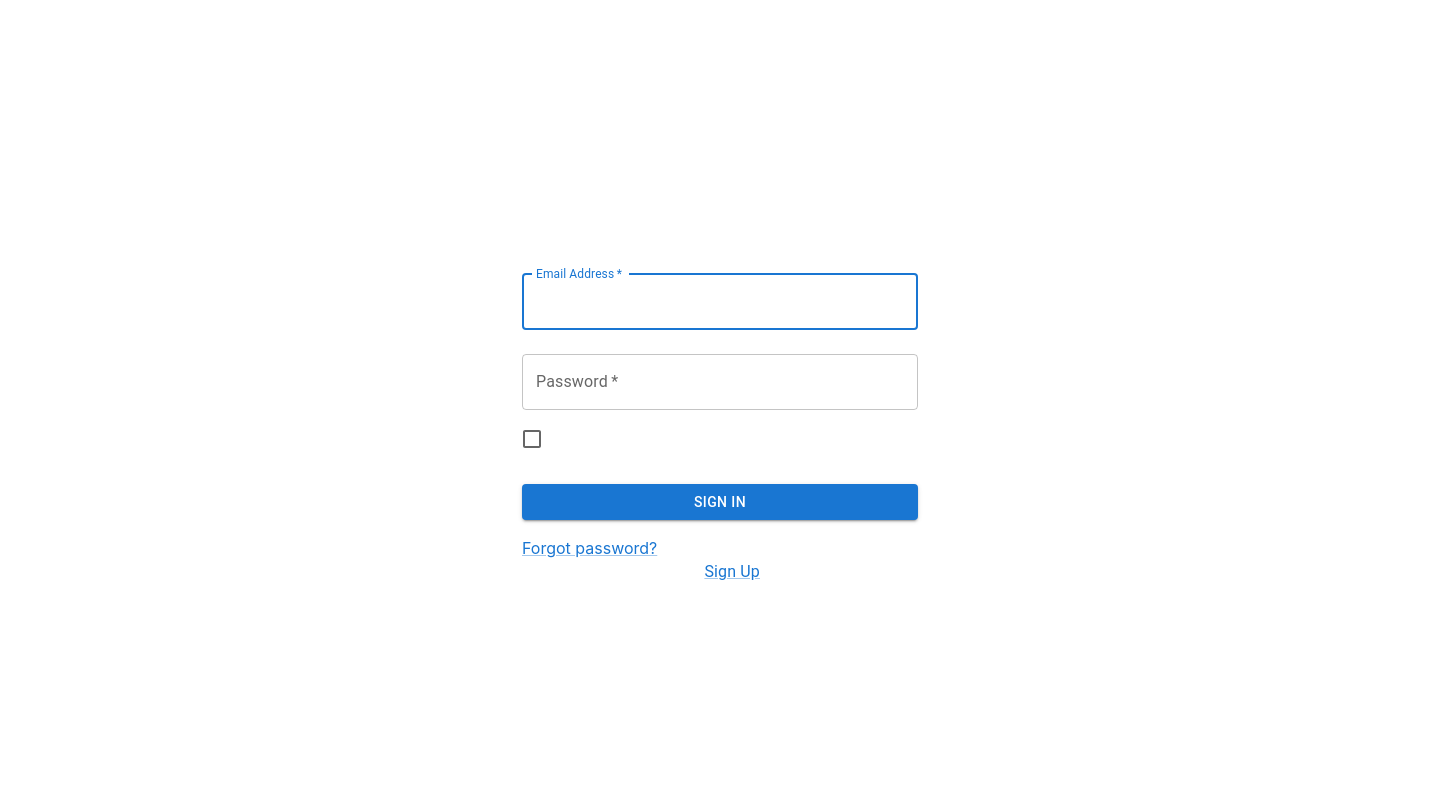
Test: App Component › renders Login component since there is no logged in user
Type "example@example.com" into the field labelled "Email Address *" at (720, 302), box [522,274,918,330]
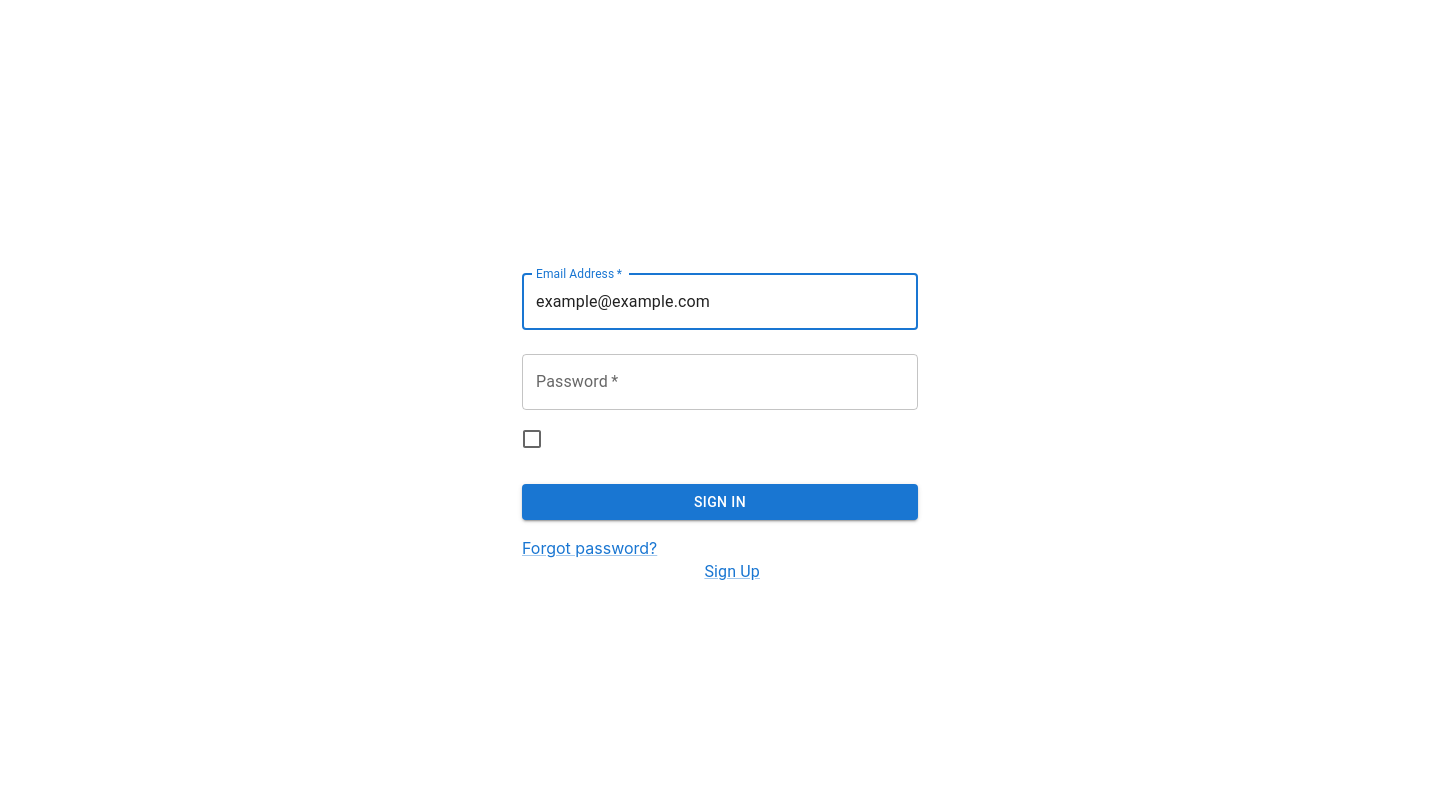
Type "TestPassword" into the password field labelled "Password *" at (720, 382), box [522,354,918,410]
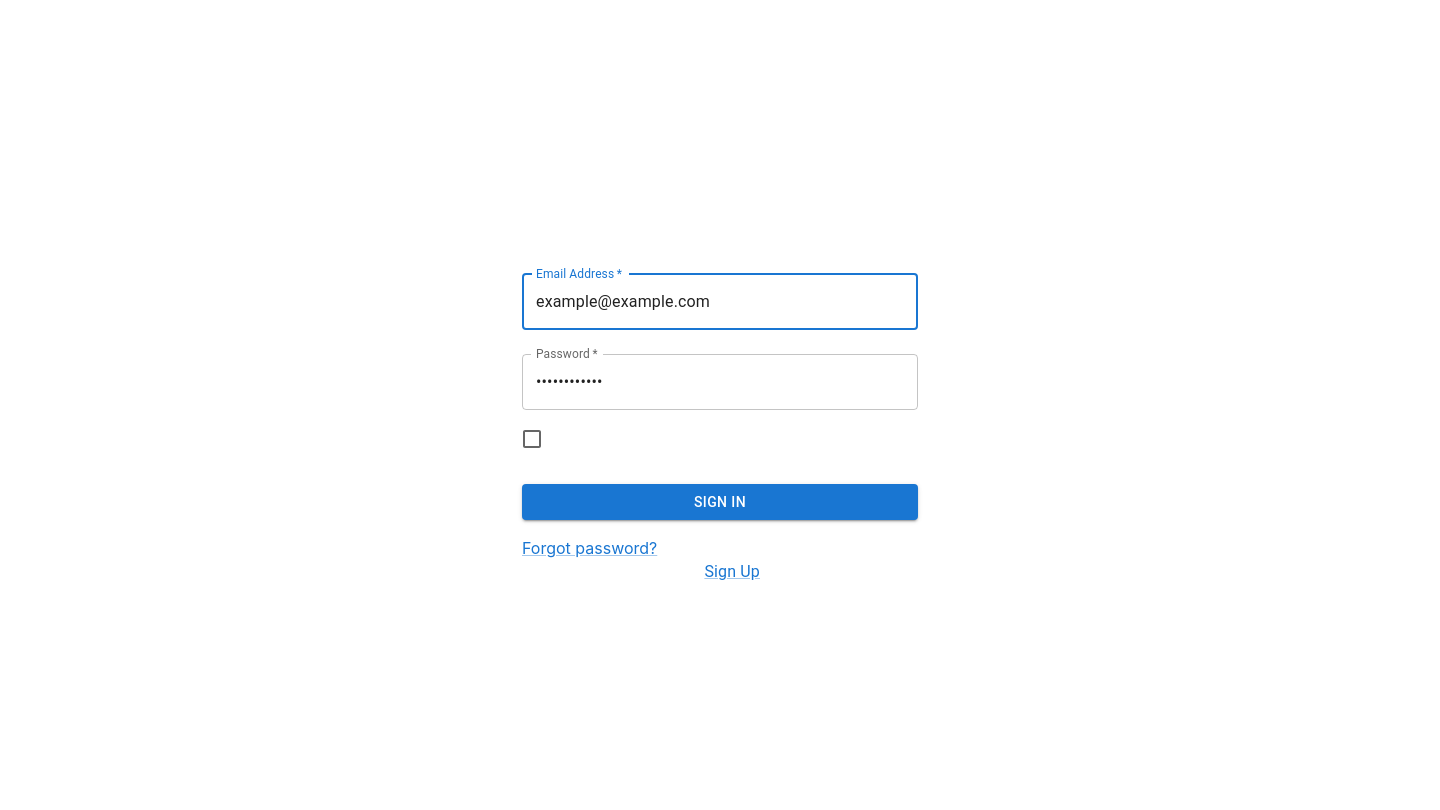
Click the button "Sign In" at (720, 502), box [522,484,918,520]
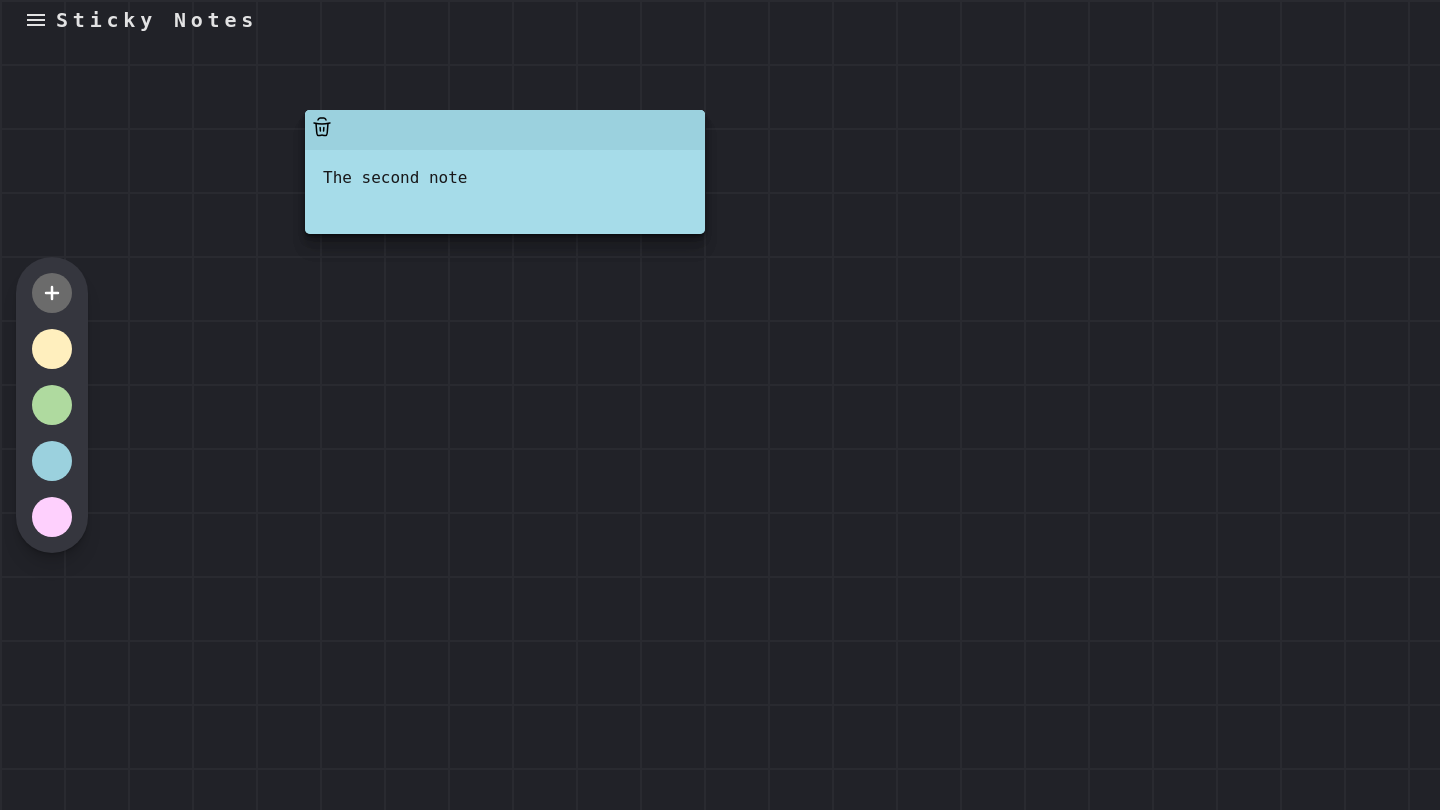
Expected: the element with test id "navbar" is shown, [16,0,258,40]
Expected: the link "Sticky Notes" is shown, [56,8,258,32]
Expected: the 1st text box "The first note" is shown, [321,166,693,212]
